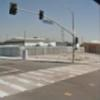crosswalks: (0, 63, 100, 99)
